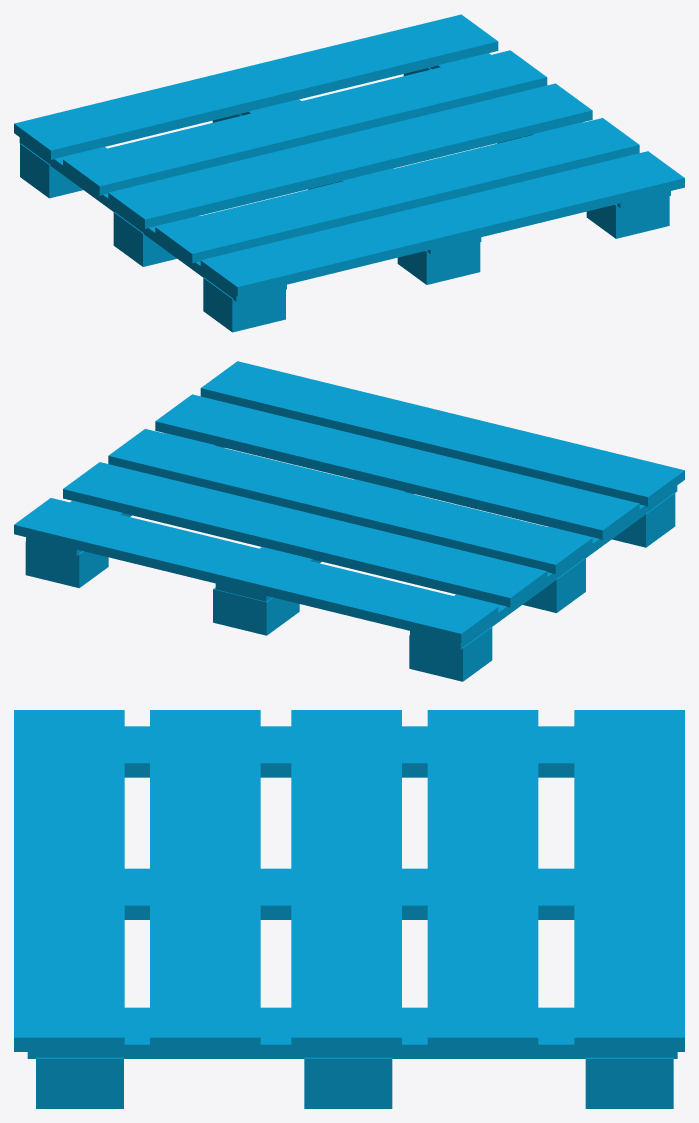
File: Pallet_01_Lod0.fbx
The picture shows the model from 3 angles, top to bottom: view 1: azimuth 30°, elevation 25°; view 2: azimuth 150°, elevation 25°; view 3: azimuth 270°, elevation 25°; orthographic projection. The views are drawn at different scales.
Visible parts, largest first — view 1: Pallet_01_Lod0; view 2: Pallet_01_Lod0; view 3: Pallet_01_Lod0.
Boxes of the visible parts, bbox=[...] form: Pallet_01_Lod0: bbox=[14, 14, 684, 332]; Pallet_01_Lod0: bbox=[14, 361, 684, 681]; Pallet_01_Lod0: bbox=[14, 710, 684, 1108].
Bounding box in the file's own units: 139 × 15.25 × 121.
